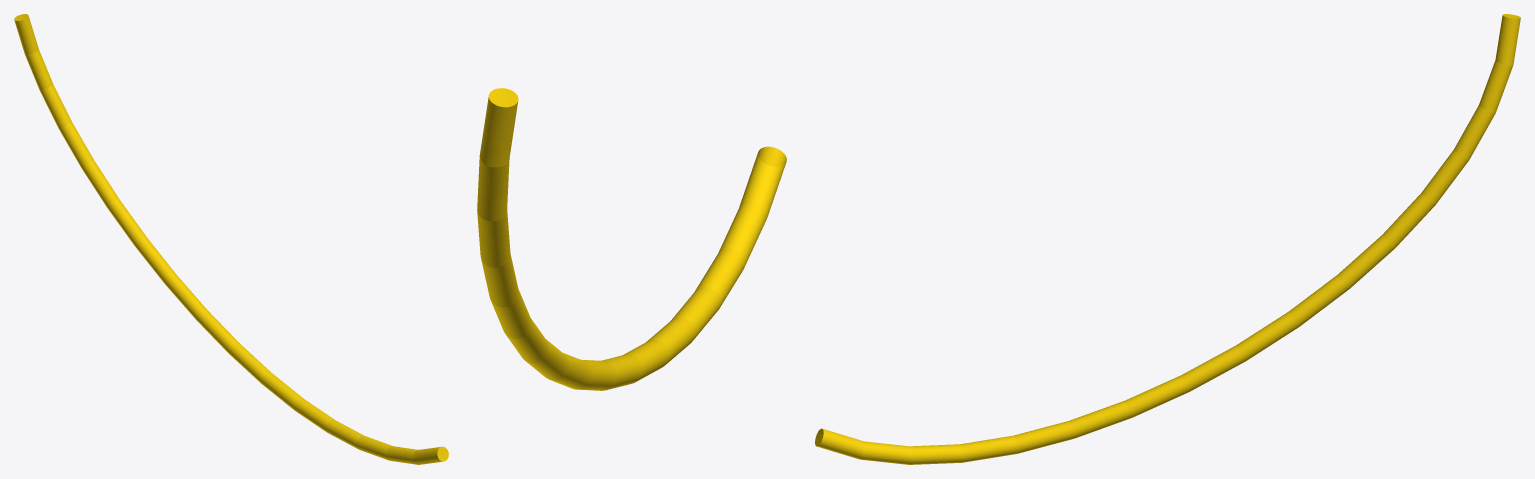
Rendered from Event_420094457_track_96.fbx.
3 views of the same model, side by side, from view 1: azimuth 30°, elevation 25°; view 2: azimuth 150°, elevation 25°; view 3: azimuth 270°, elevation 25° (orthographic). The views are drawn at different scales.
Visible parts, largest first — view 1: Model; view 2: Model; view 3: Model.
Boxes of the visible parts, bbox=[...] form: Model: bbox=[14, 14, 448, 464]; Model: bbox=[477, 88, 786, 390]; Model: bbox=[815, 14, 1520, 464].
Size of the model in its own units: 0.4801 by 0.8845 by 1.51.
